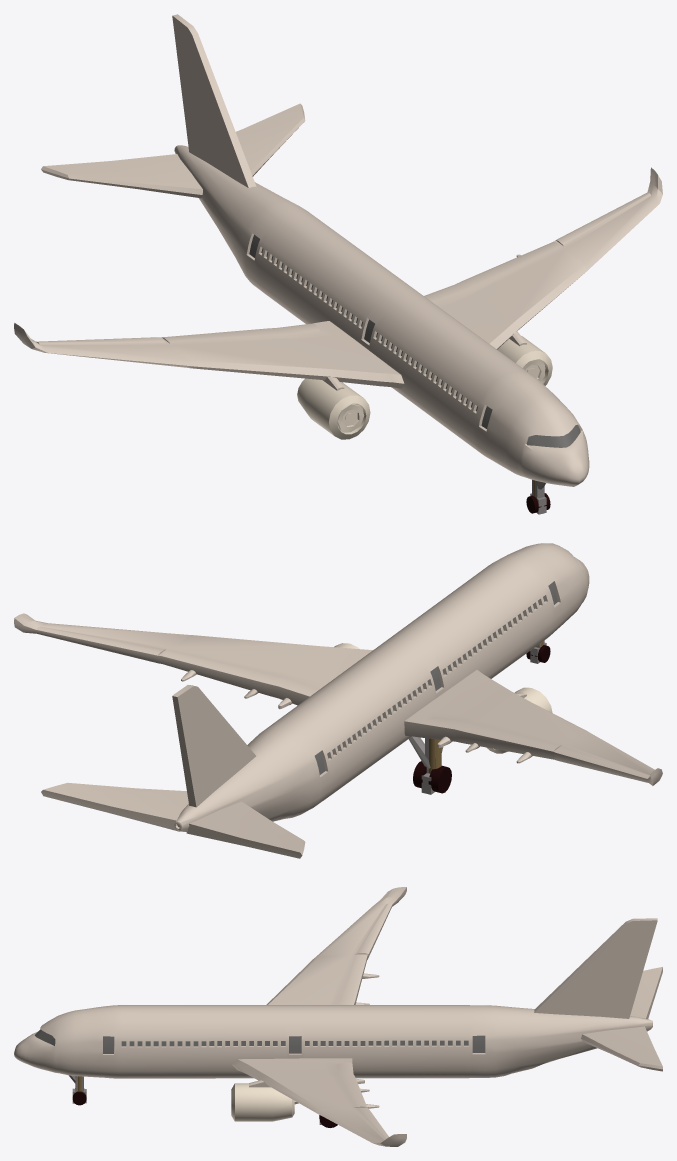
3 renders of one model, top to bottom at view 1: azimuth 30°, elevation 25°; view 2: azimuth 150°, elevation 25°; view 3: azimuth 270°, elevation 25°, orthographic. The views are drawn at different scales.
Visible parts, largest first — view 1: A_AirPlane1_0; view 2: A_AirPlane1_0; view 3: A_AirPlane1_0.
Boxes of the visible parts, box(x1,y1,x2,y2) form: A_AirPlane1_0: box(14, 14, 662, 514); A_AirPlane1_0: box(14, 543, 662, 858); A_AirPlane1_0: box(14, 887, 662, 1146).
Size of the model in its own units: 35.86 by 12.43 by 39.74.
2 materials, 2 textured.
